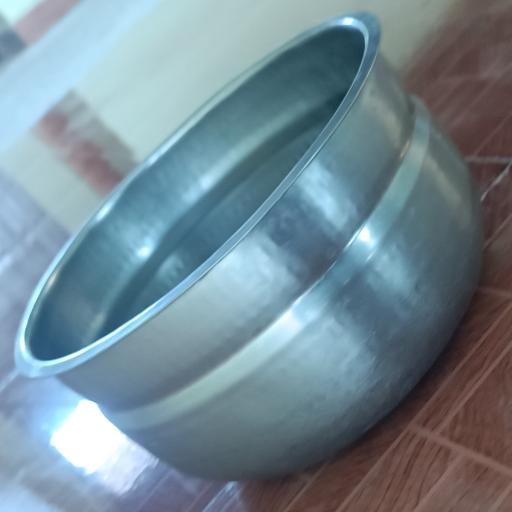vessel: (16, 13, 482, 479)
